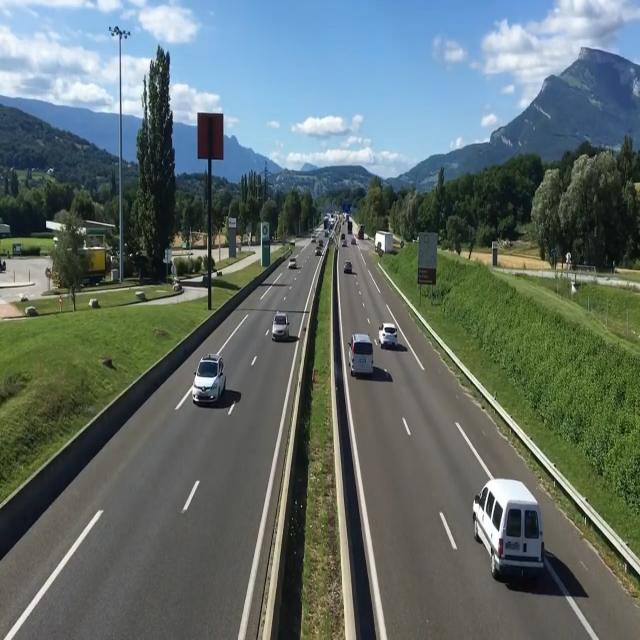car: (473, 479, 548, 590), (190, 349, 229, 411), (349, 329, 376, 383), (271, 303, 290, 346), (380, 323, 404, 355), (286, 255, 298, 276), (342, 258, 355, 276), (315, 244, 322, 259)
